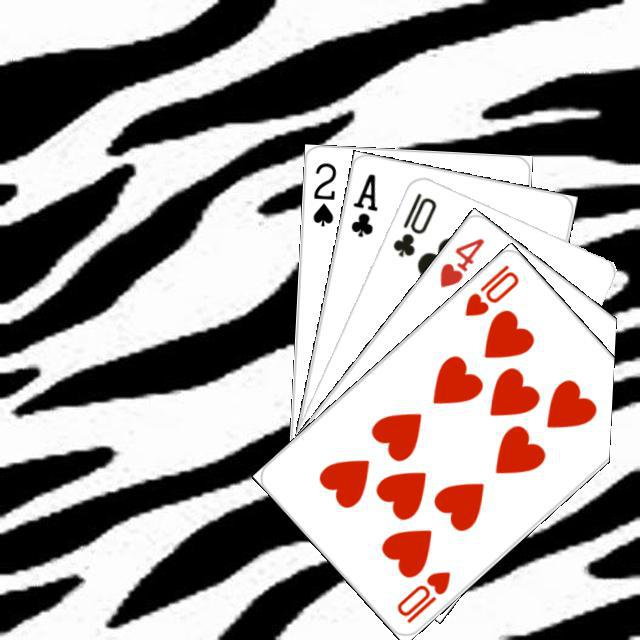10c: (388, 188, 439, 259)
10h: (459, 259, 521, 319), (391, 566, 452, 626)
2s: (308, 158, 338, 228)
4h: (434, 233, 487, 290)
Ac: (346, 168, 379, 239)
